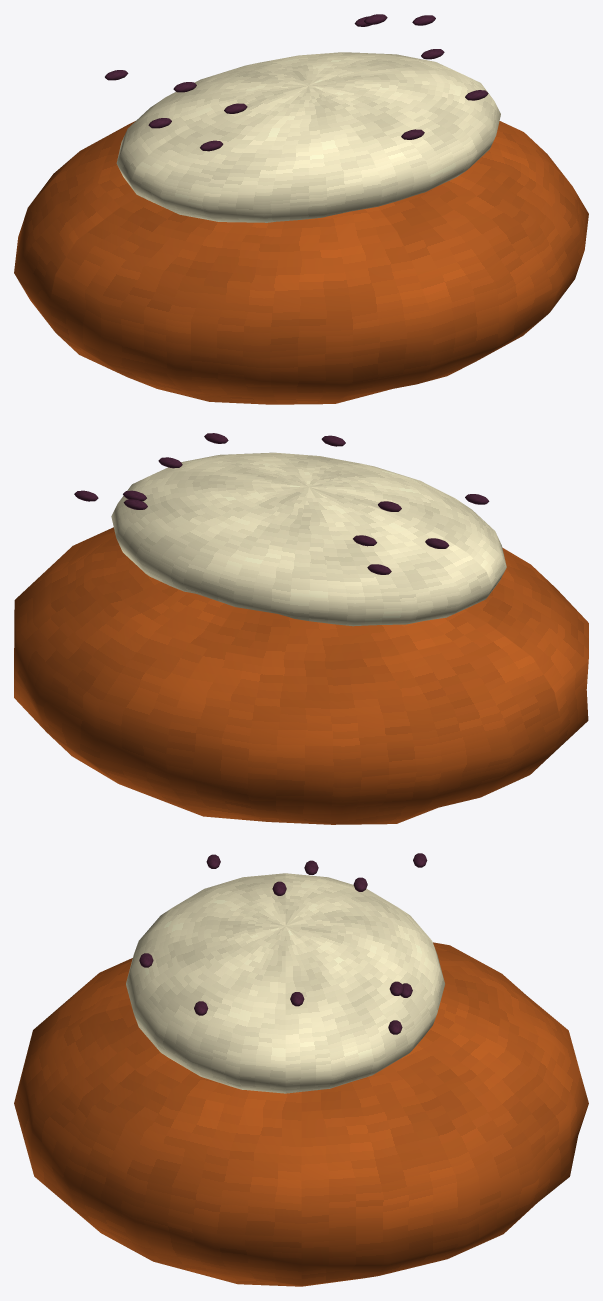
The model's file is bread_nandai_raisin.glb.
The picture shows the model from 3 angles, top to bottom: view 1: azimuth 30°, elevation 25°; view 2: azimuth 150°, elevation 25°; view 3: azimuth 270°, elevation 25°; orthographic projection. The views are drawn at different scales.
Visible parts, largest first — view 1: ふっくらした生地.017, 南台のクリーム; view 2: ふっくらした生地.017, 南台のクリーム; view 3: ふっくらした生地.017, 南台のクリーム.
Boxes of the visible parts, box(x1,y1,x2,y2) form: ふっくらした生地.017: box(14, 121, 588, 404); 南台のクリーム: box(116, 52, 500, 222); ふっくらした生地.017: box(14, 527, 588, 824); 南台のクリーム: box(111, 452, 506, 626); ふっくらした生地.017: box(14, 942, 588, 1286); 南台のクリーム: box(126, 873, 444, 1093).
Size of the model in its own units: 0.7929 by 0.4206 by 0.72.
Materials: 3 (3 with a texture image).
